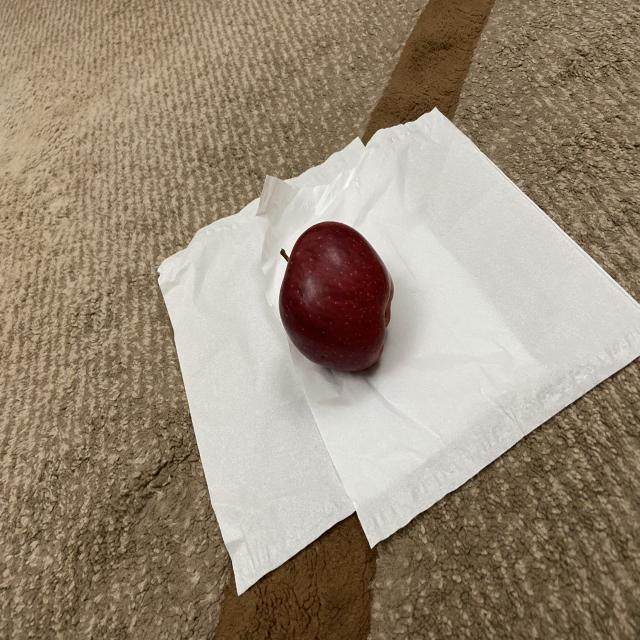apple: (272, 220, 397, 381)
